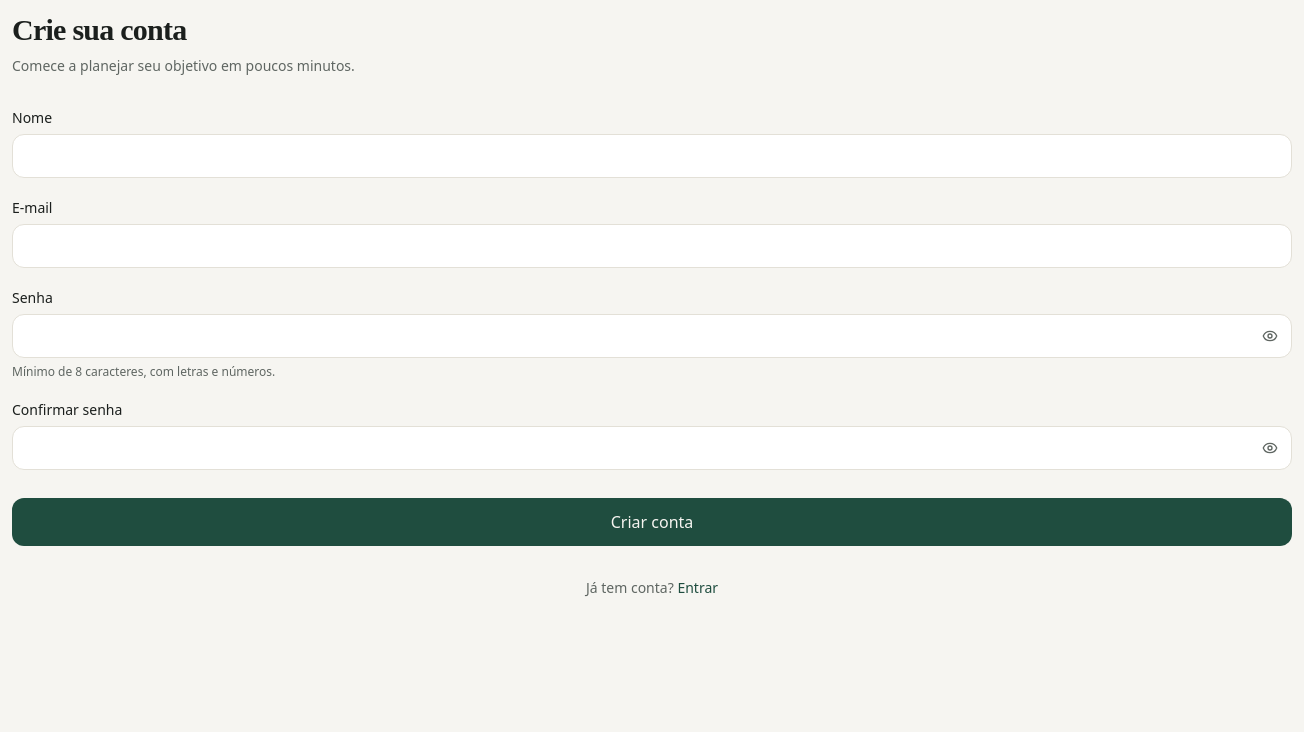
Test: RegisterPage › mostra erros de validação vindos do servidor no campo correto
Type "Beatriz" into the field labelled "Nome" at (652,156), box 12,134 -> 1292,178
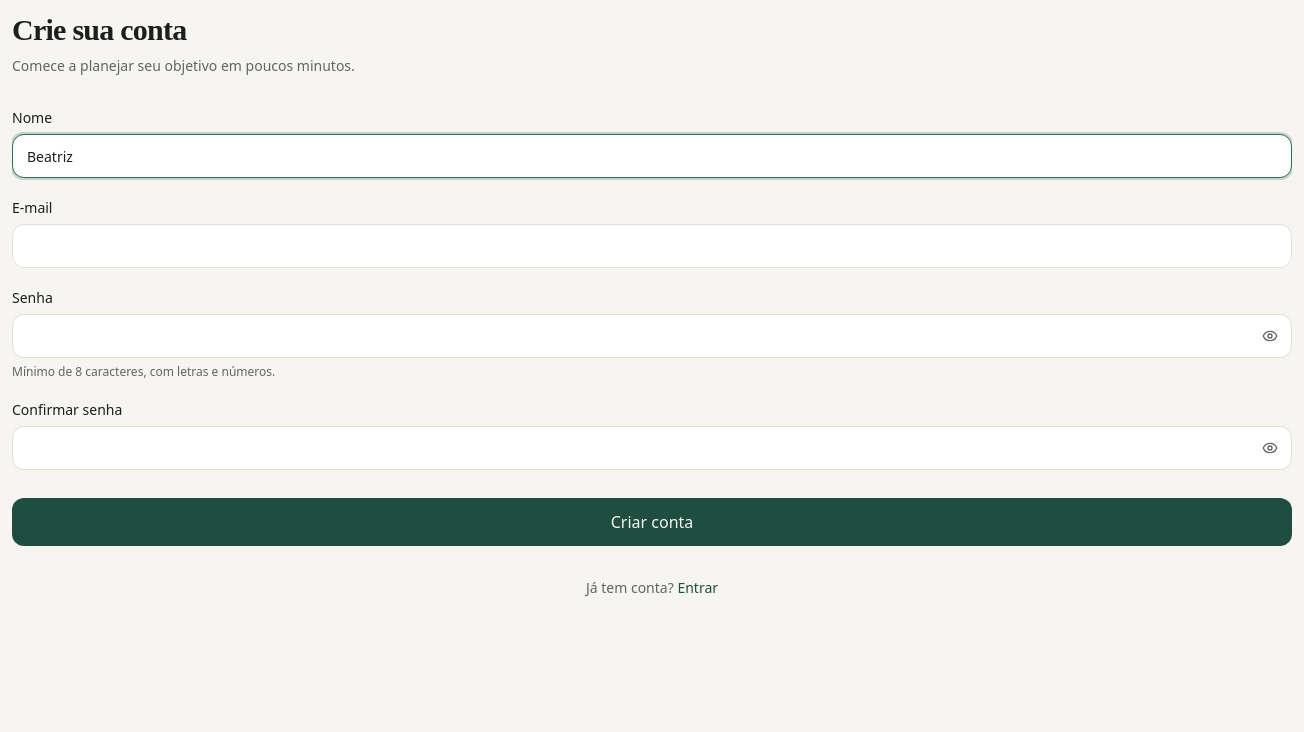
Type "bia@example.com" into the field labelled "E-mail" at (652,246), box 12,224 -> 1292,268
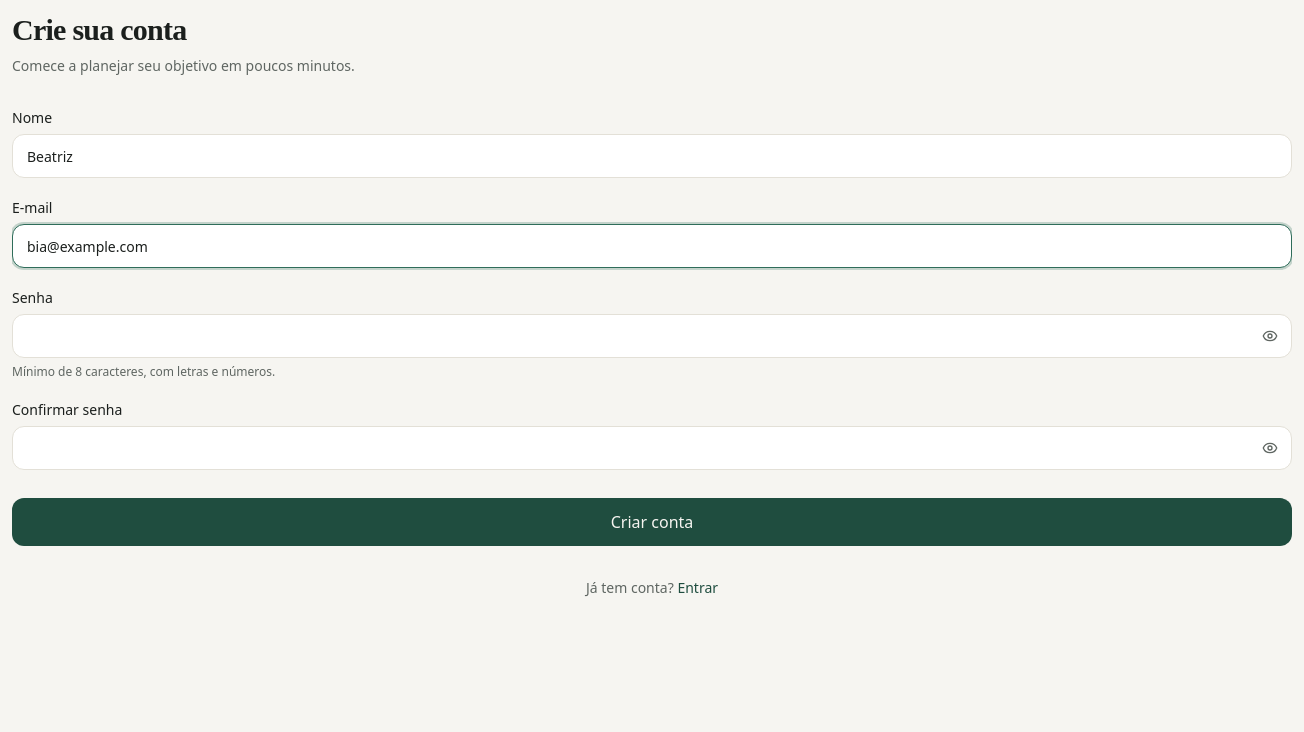
Type "senhaForte1" into the password field labelled "Senha" at (652,336), box 12,314 -> 1292,358
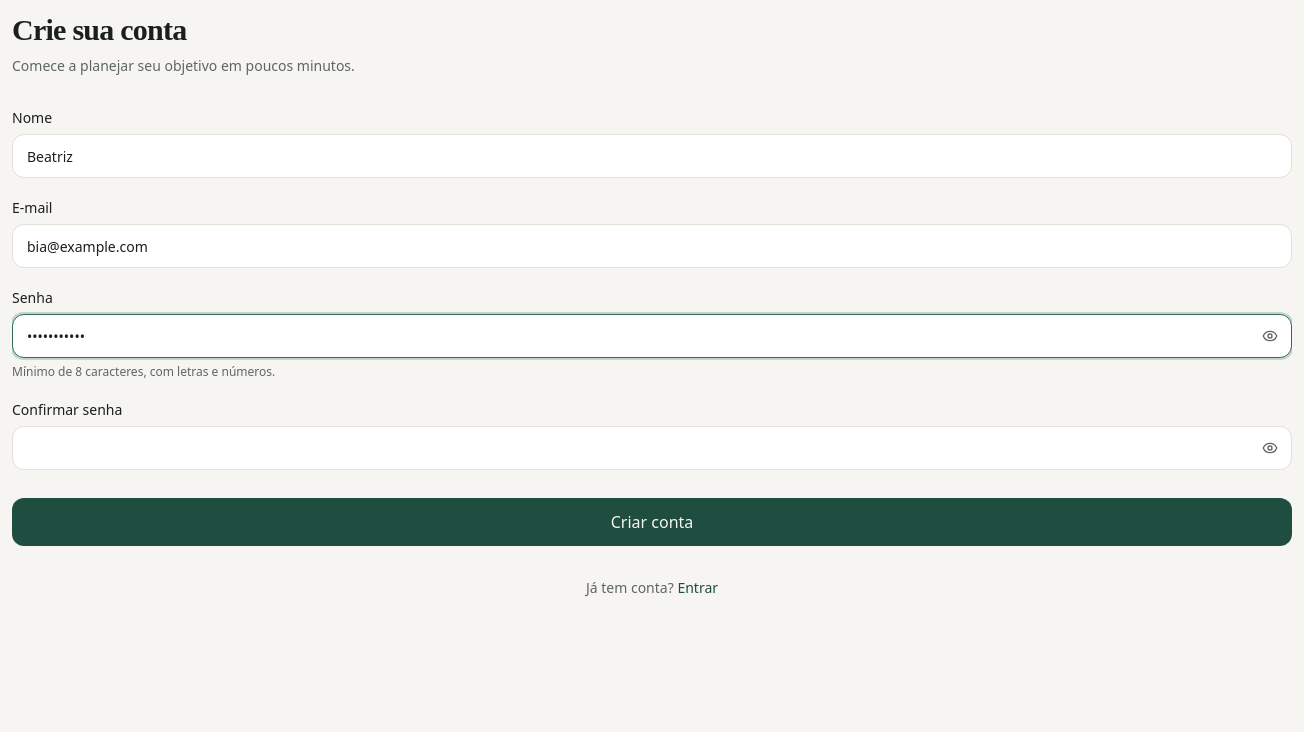
Type "senhaForte1" into the password field labelled "Confirmar senha" at (652,448), box 12,426 -> 1292,470
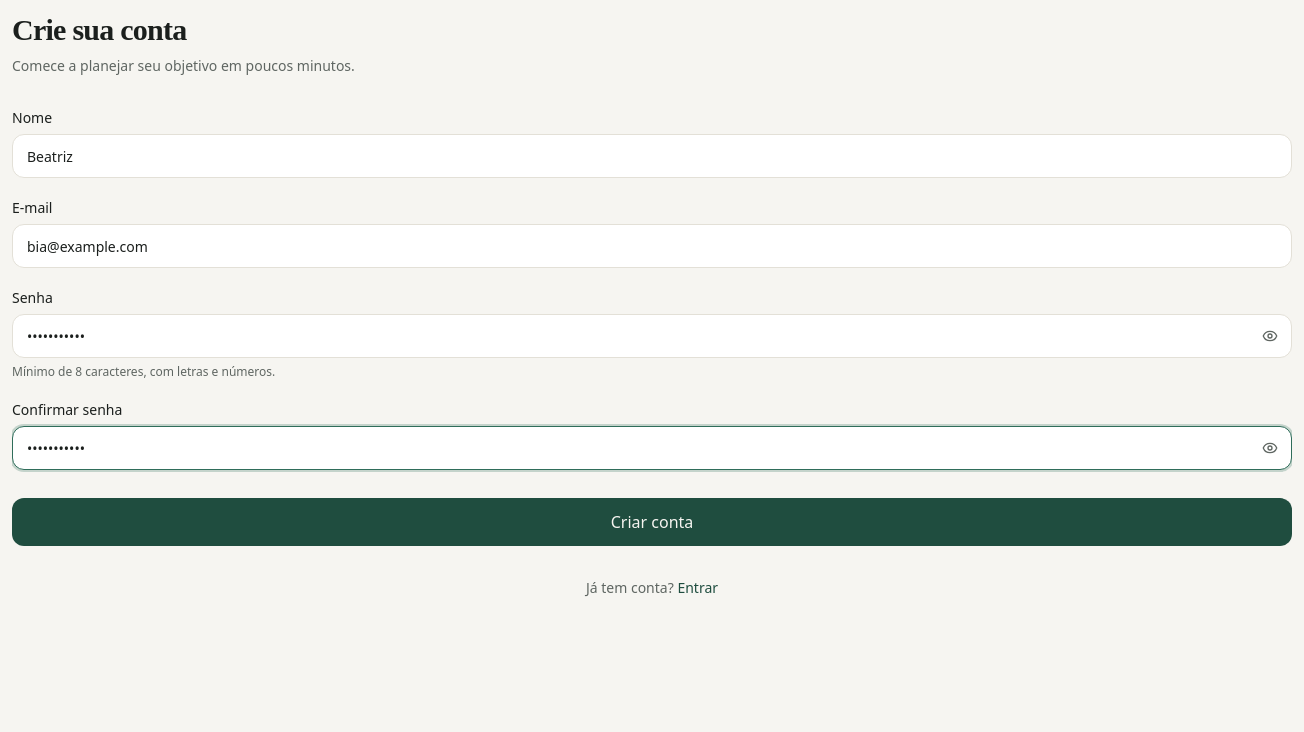
Click the button "Criar conta" at (652,522), box 12,498 -> 1292,546
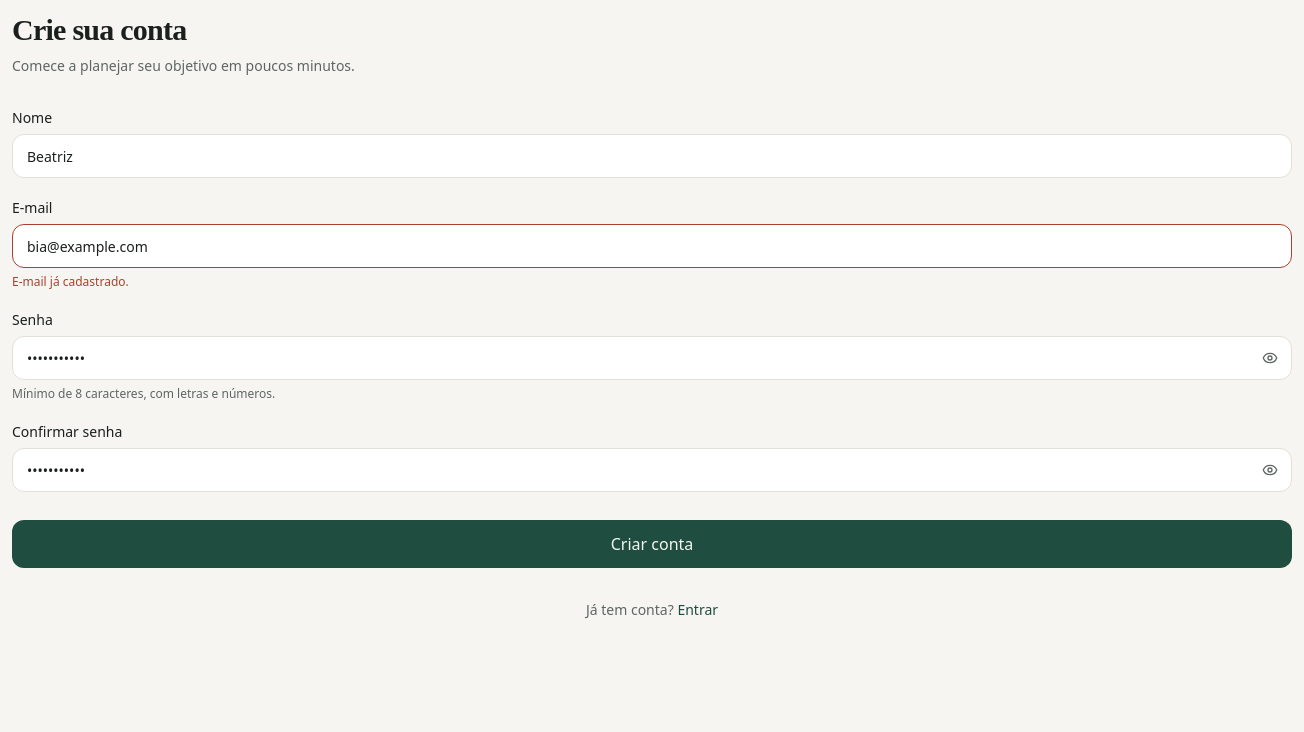
Check: the text "E-mail já cadastrado." is shown, box 12,273 -> 129,290
